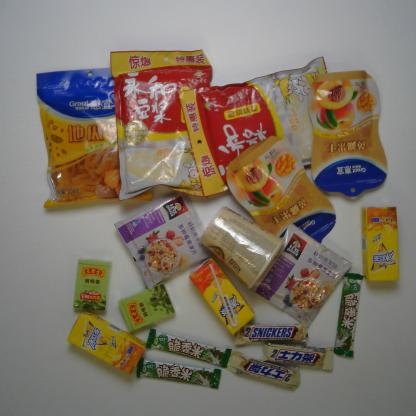Candy: (118, 282, 176, 332), (73, 257, 111, 311)
Chocolate: (145, 328, 233, 369), (226, 350, 301, 391), (136, 357, 222, 389), (334, 272, 364, 359), (262, 340, 335, 371), (234, 322, 309, 347)
Dried Fruit: (35, 67, 153, 209), (226, 134, 337, 247), (308, 70, 388, 198)
Drink: (189, 255, 255, 334), (66, 310, 146, 374), (360, 206, 400, 282)
Instant Drink: (179, 55, 330, 196), (110, 50, 214, 202), (250, 222, 354, 330), (113, 190, 217, 290)
Instant Noodles: (199, 205, 285, 289)
